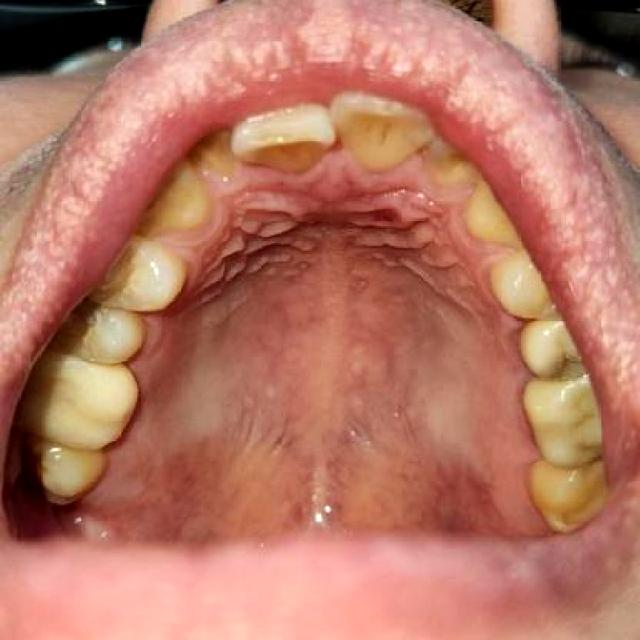Plaque: (494, 296, 549, 396), (236, 154, 318, 204)
